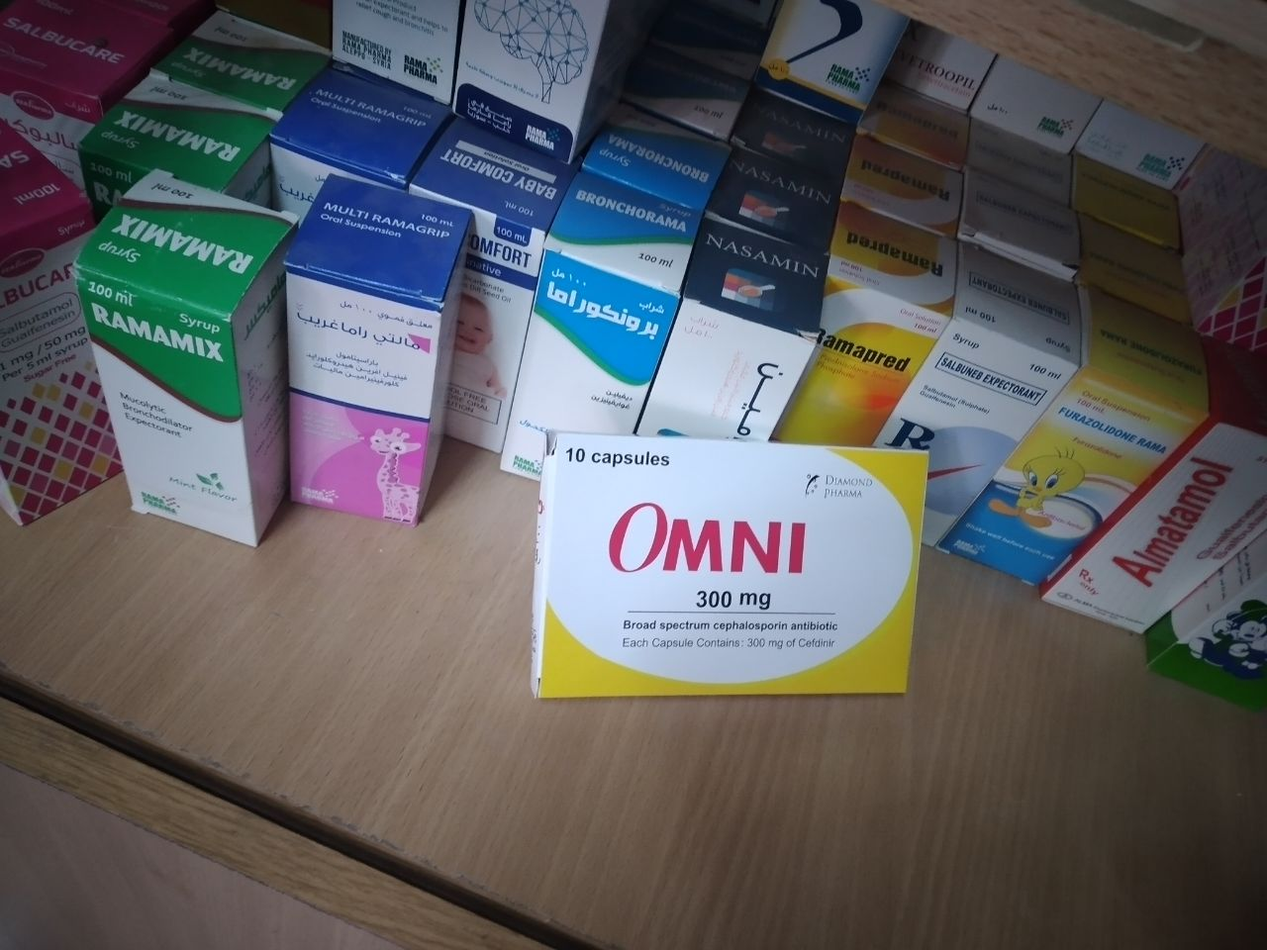Medicine: (522, 423, 938, 715), (62, 161, 302, 581), (282, 171, 485, 539), (955, 309, 1208, 591), (1042, 396, 1267, 628), (507, 186, 663, 455), (883, 260, 1079, 458), (661, 208, 807, 426), (807, 198, 933, 418)
